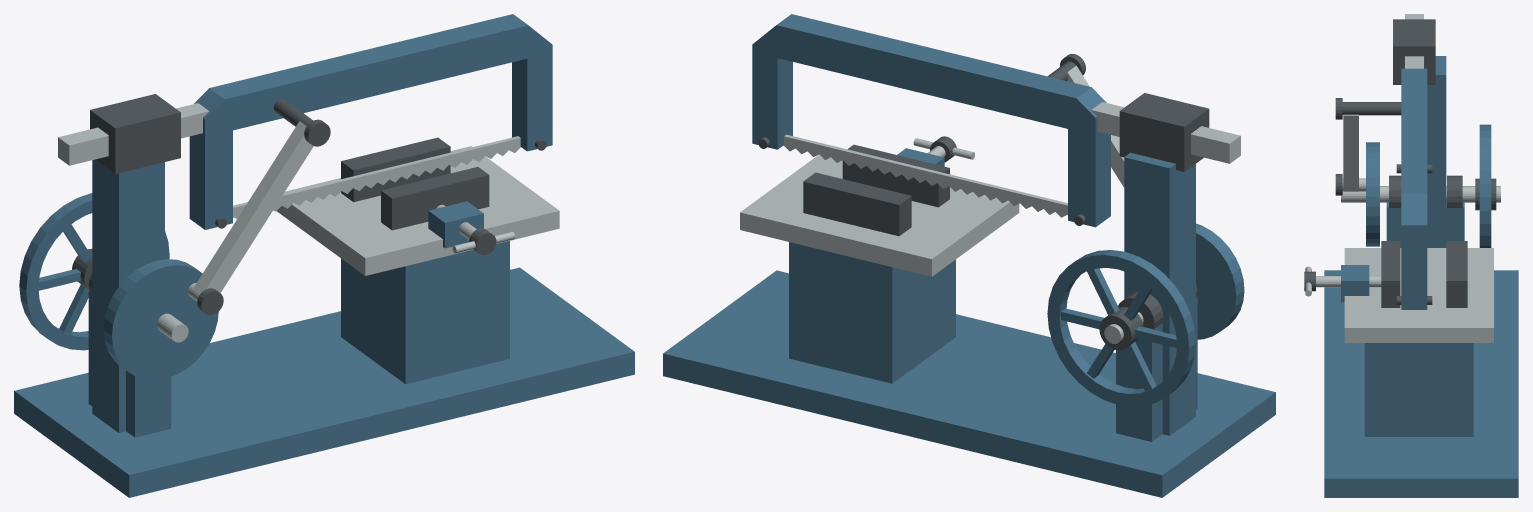
The picture shows the model from 3 angles, left to right: view 1: azimuth 30°, elevation 25°; view 2: azimuth 150°, elevation 25°; view 3: azimuth 270°, elevation 25°; orthographic projection. The views are drawn at different scales.
Parts seen in each view (by area): view 1: WholeGroundMachineBed, WholeContinuousOpenBottomSawBow, WholeWorkTablePedestal, WholeFixedWorkTable, WholeTallRamGuideColumn, WholeFrontDrivingCrankDisk, WholeRectangularThroughRamGuide, WholeObliqueCrankConnectingLink, WholeFrontSlidingViseJaw, WholeRearFlywheelRim, WholeStraightClosedZigzagBlade, WholeFixedRearViseJaw (+4 smaller); view 2: WholeGroundMachineBed, WholeContinuousOpenBottomSawBow, WholeWorkTablePedestal, WholeFixedWorkTable, WholeTallRamGuideColumn, WholeRearFlywheelRim, WholeRectangularThroughRamGuide, WholeFixedRearViseJaw, WholeFrontDrivingCrankDisk, WholeStraightClosedZigzagBlade, FarWholeCrankBearingPedestal, WholeFrontSlidingViseJaw (+5 smaller); view 3: WholeGroundMachineBed, WholeWorkTablePedestal, WholeFixedWorkTable, WholeContinuousOpenBottomSawBow, WholeTallRamGuideColumn, WholeRectangularThroughRamGuide, WholeRearFlywheelRim, WholeFixedRearViseJaw, WholeFrontDrivingCrankDisk, WholeFrontSlidingViseJaw, WholeObliqueCrankConnectingLink, WholeViseFrontScrewBoss (+9 smaller).
Boxes of the visible parts, x1,y1,x2,y2 form: WholeGroundMachineBed: (14,267,634,497); WholeContinuousOpenBottomSawBow: (189,14,552,229); WholeWorkTablePedestal: (341,241,509,384); WholeFixedWorkTable: (277,146,559,275); WholeTallRamGuideColumn: (92,159,164,432); WholeFrontDrivingCrankDisk: (103,259,218,379); WholeRectangularThroughRamGuide: (90,94,180,173); WholeObliqueCrankConnectingLink: (192,121,313,294); WholeFrontSlidingViseJaw: (381,167,489,230); WholeRearFlywheelRim: (19,193,169,350); WholeStraightClosedZigzagBlade: (233,136,521,218); WholeFixedRearViseJaw: (341,137,450,202); WholeGroundMachineBed: (663,270,1275,497); WholeContinuousOpenBottomSawBow: (752,14,1110,227); WholeWorkTablePedestal: (789,242,955,383); WholeFixedWorkTable: (740,154,1019,276); WholeTallRamGuideColumn: (1124,152,1195,435); WholeRearFlywheelRim: (1047,250,1195,406); WholeRectangularThroughRamGuide: (1119,93,1209,171); WholeFixedRearViseJaw: (803,172,911,236); WholeFrontDrivingCrankDisk: (1196,223,1244,339); WholeStraightClosedZigzagBlade: (783,134,1067,217); FarWholeCrankBearingPedestal: (1116,323,1162,441); WholeFrontSlidingViseJaw: (842,144,949,207); WholeGroundMachineBed: (1324,270,1518,497); WholeWorkTablePedestal: (1364,343,1473,436); WholeFixedWorkTable: (1344,248,1493,342); WholeContinuousOpenBottomSawBow: (1401,68,1427,309); WholeTallRamGuideColumn: (1427,56,1446,247); WholeRectangularThroughRamGuide: (1393,19,1435,84); WholeRearFlywheelRim: (1479,124,1491,247); WholeFixedRearViseJaw: (1446,241,1467,307); WholeFrontDrivingCrankDisk: (1366,142,1379,246); WholeFrontSlidingViseJaw: (1381,241,1400,307); WholeObliqueCrankConnectingLink: (1343,114,1358,191); WholeViseFrontScrewBoss: (1341,265,1369,302).
Bounding box in the file's own units: 2.13 × 1.31 × 0.905.
